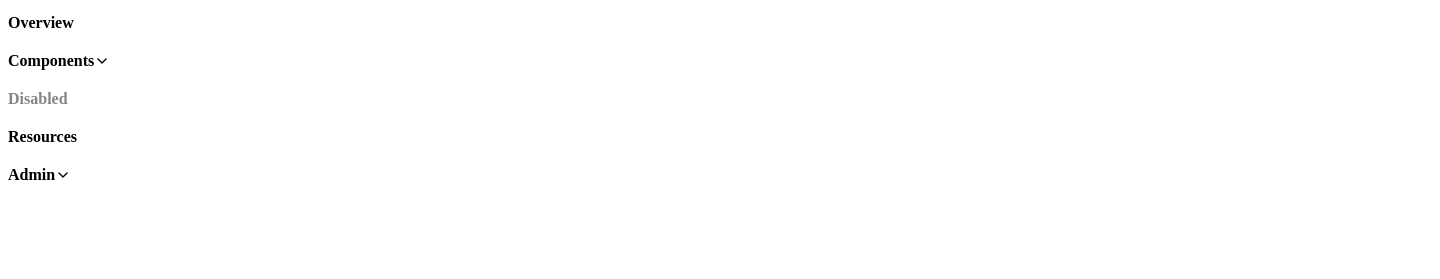
Test case: YMenu › toggles submenus and supports accordion mode
Click the menu item "Components". click: (51, 60)
box: x1=8 y1=42 x2=1432 y2=80
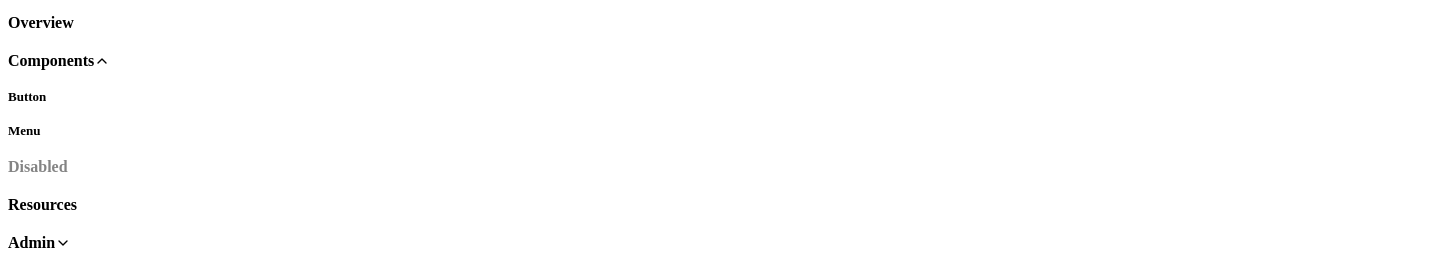
Expected: the menu item "Components" is expanded, x1=8 y1=42 x2=1432 y2=80
Click the menu item "Admin". click: (32, 242)
box: x1=8 y1=224 x2=1432 y2=262
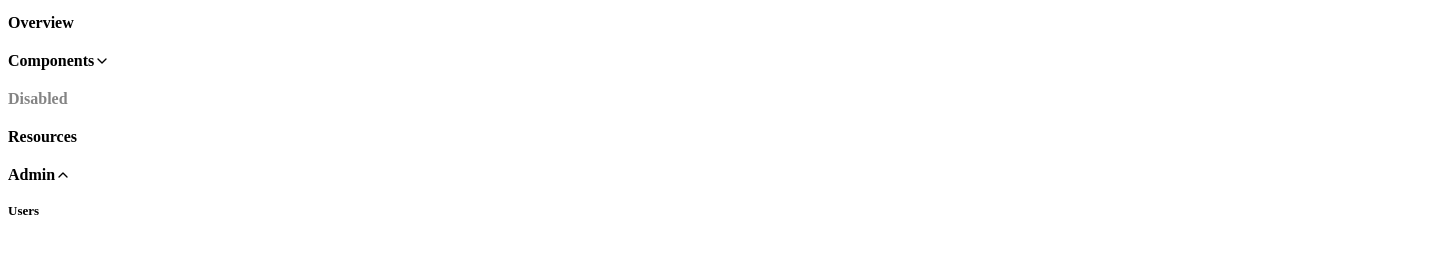
Expected: the menu item "Components" is collapsed, x1=8 y1=42 x2=1432 y2=80
Expected: the menu item "Admin" is expanded, x1=8 y1=156 x2=1432 y2=194
